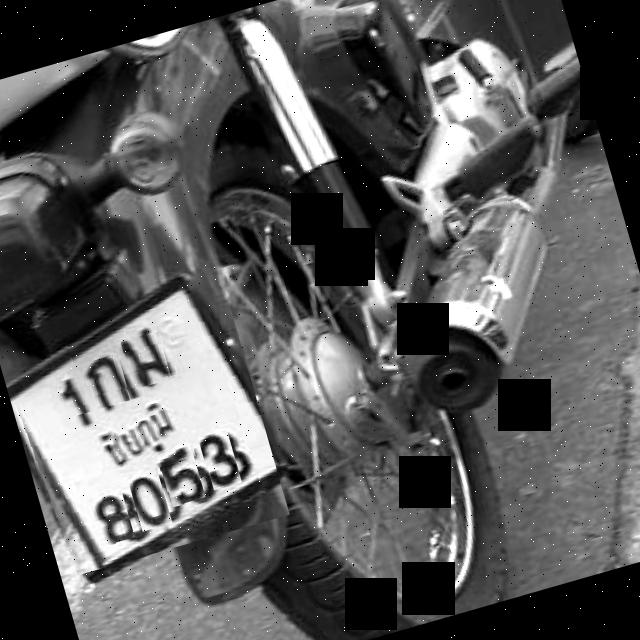letters: (44, 366, 96, 433), (125, 463, 172, 531), (120, 330, 172, 390), (78, 352, 130, 410), (84, 489, 135, 548), (157, 450, 205, 508), (198, 429, 242, 490)
license-plate: (12, 288, 276, 566)
province: (75, 389, 189, 487)
